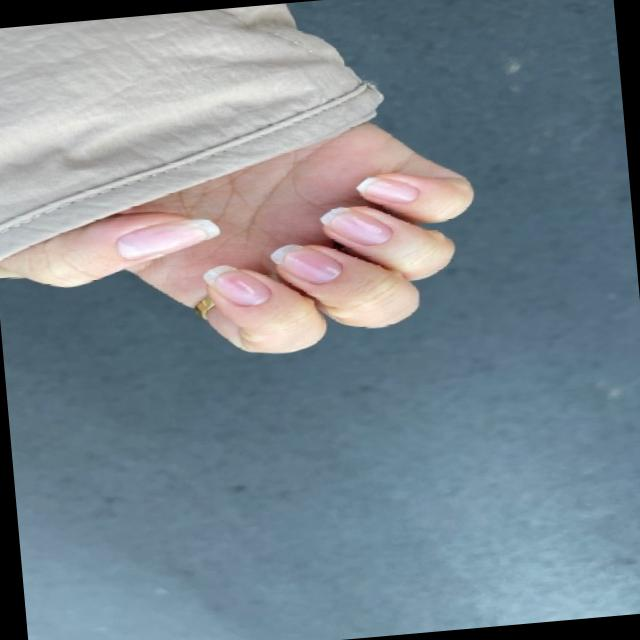Nail: (115, 218, 219, 258), (270, 242, 340, 283), (318, 206, 391, 244), (202, 264, 269, 305), (355, 176, 418, 203)
